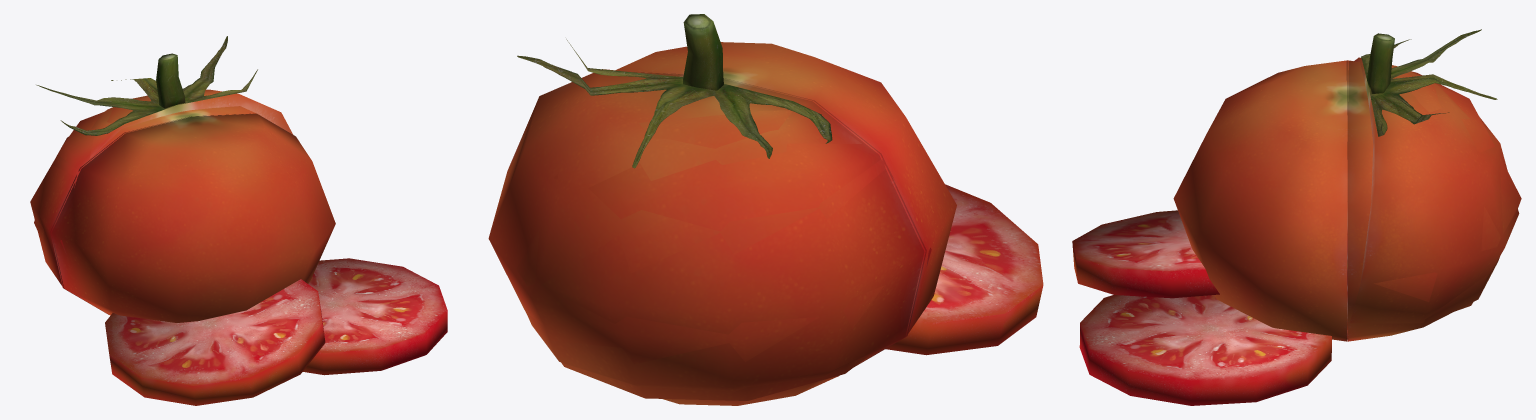
File: handpainted_lowpoly_tomatoes.fbx
3 renders of one model, left to right at view 1: azimuth 30°, elevation 25°; view 2: azimuth 150°, elevation 25°; view 3: azimuth 270°, elevation 25°, orthographic. The views are drawn at different scales.
Visible parts, largest first — view 1: node_c3970706_c67e_4837_9093_af6fc6c5a131_mesh0, node_80e3866c_e576_4756_95b1_27e03563d580_mesh0, node_9245abcd_6305_4d85_a305_4e25cef8e59d_mesh0, node_ee327d27_3a02_4252_bfbb_6dbd5d4bcb70_mesh0, node_c3970706_c67e_4837_9093_af6fc6c5a131_mesh0.001, node_d5035d6d_c771_442b_a845_e88c37a2e821_mesh0; view 2: node_c3970706_c67e_4837_9093_af6fc6c5a131_mesh0, node_c3970706_c67e_4837_9093_af6fc6c5a131_mesh0.001, node_80e3866c_e576_4756_95b1_27e03563d580_mesh0, node_ee327d27_3a02_4252_bfbb_6dbd5d4bcb70_mesh0, node_d5035d6d_c771_442b_a845_e88c37a2e821_mesh0; view 3: node_c3970706_c67e_4837_9093_af6fc6c5a131_mesh0, node_c3970706_c67e_4837_9093_af6fc6c5a131_mesh0.001, node_9245abcd_6305_4d85_a305_4e25cef8e59d_mesh0, node_80e3866c_e576_4756_95b1_27e03563d580_mesh0, node_ee327d27_3a02_4252_bfbb_6dbd5d4bcb70_mesh0, node_d5035d6d_c771_442b_a845_e88c37a2e821_mesh0.
Boxes of the visible parts, x1,y1,x2,y2 form: node_c3970706_c67e_4837_9093_af6fc6c5a131_mesh0: (30,97,335,322); node_80e3866c_e576_4756_95b1_27e03563d580_mesh0: (105,279,325,405); node_9245abcd_6305_4d85_a305_4e25cef8e59d_mesh0: (303,258,447,375); node_ee327d27_3a02_4252_bfbb_6dbd5d4bcb70_mesh0: (36,36,257,135); node_c3970706_c67e_4837_9093_af6fc6c5a131_mesh0.001: (34,89,292,253); node_d5035d6d_c771_442b_a845_e88c37a2e821_mesh0: (156,53,185,108); node_c3970706_c67e_4837_9093_af6fc6c5a131_mesh0: (516,42,956,405); node_c3970706_c67e_4837_9093_af6fc6c5a131_mesh0.001: (488,69,931,400); node_80e3866c_e576_4756_95b1_27e03563d580_mesh0: (885,184,1043,355); node_ee327d27_3a02_4252_bfbb_6dbd5d4bcb70_mesh0: (517,39,832,168); node_d5035d6d_c771_442b_a845_e88c37a2e821_mesh0: (683,14,723,90); node_c3970706_c67e_4837_9093_af6fc6c5a131_mesh0: (1173,60,1521,341); node_c3970706_c67e_4837_9093_af6fc6c5a131_mesh0.001: (1347,57,1519,332); node_9245abcd_6305_4d85_a305_4e25cef8e59d_mesh0: (1079,295,1331,405); node_80e3866c_e576_4756_95b1_27e03563d580_mesh0: (1072,210,1219,298); node_ee327d27_3a02_4252_bfbb_6dbd5d4bcb70_mesh0: (1361,29,1497,136); node_d5035d6d_c771_442b_a845_e88c37a2e821_mesh0: (1367,33,1394,93).
Bounding box in the file's own units: 292 × 213 × 312.
